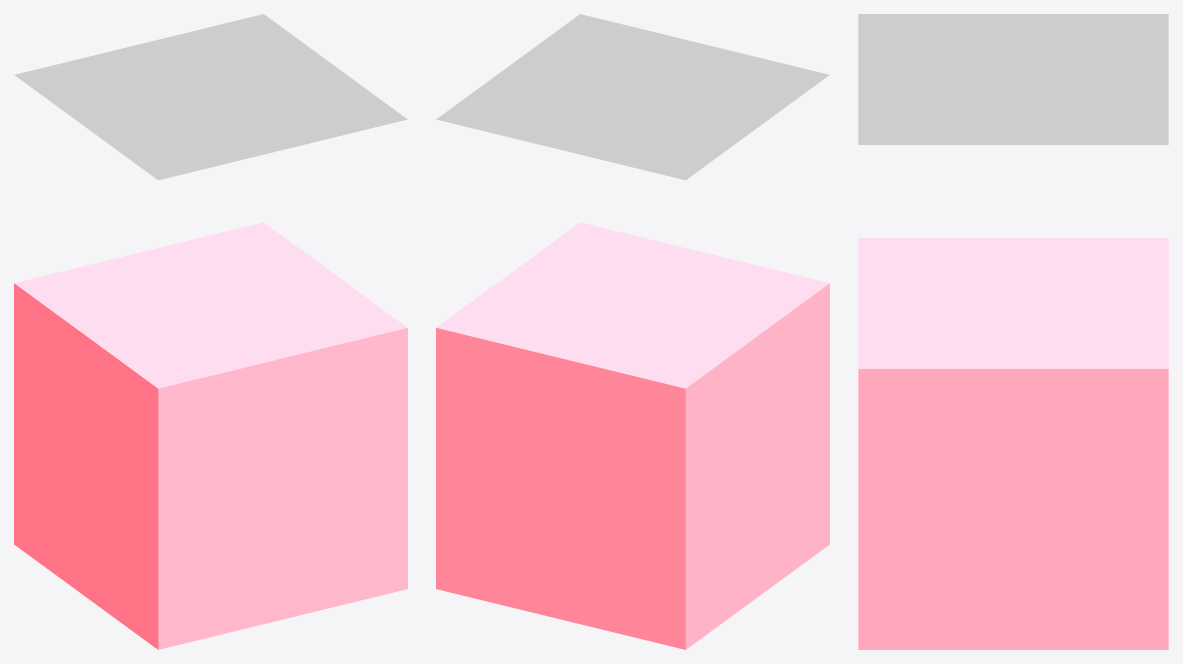
File: particle_explosion.glb
The picture shows the model from 3 angles, left to right: view 1: azimuth 30°, elevation 25°; view 2: azimuth 150°, elevation 25°; view 3: azimuth 270°, elevation 25°; orthographic projection. The views are drawn at different scales.
Visible parts, largest first — view 1: particle_1, particle_emitter; view 2: particle_1, particle_emitter; view 3: particle_1, particle_emitter.
Part boxes in pixels (bbox=[...]): particle_1: bbox=[14, 222, 407, 649]; particle_emitter: bbox=[14, 14, 407, 180]; particle_1: bbox=[436, 222, 829, 649]; particle_emitter: bbox=[436, 14, 829, 180]; particle_1: bbox=[858, 238, 1168, 649]; particle_emitter: bbox=[858, 14, 1168, 144].
Size of the model in its own units: 2 by 3.59 by 2.
